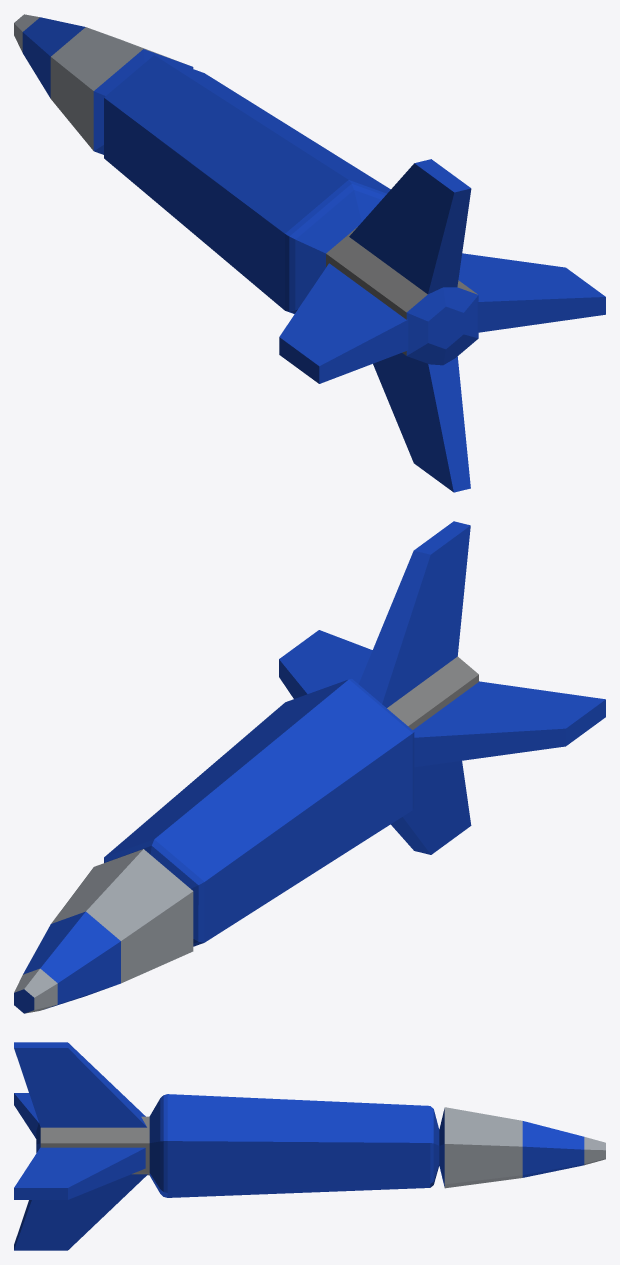
File: missile.fbx
3 renders of one model, top to bottom at view 1: azimuth 30°, elevation 25°; view 2: azimuth 150°, elevation 25°; view 3: azimuth 270°, elevation 25°, orthographic. The views are drawn at different scales.
Visible parts, largest first — view 1: Circle; view 2: Circle; view 3: Circle.
Part boxes in pixels (x1,y1,x2,y2): Circle: (14,14,605,492); Circle: (14,521,605,1013); Circle: (14,1042,605,1250).
Bounding box in the file's own units: 123 × 123 × 327.
